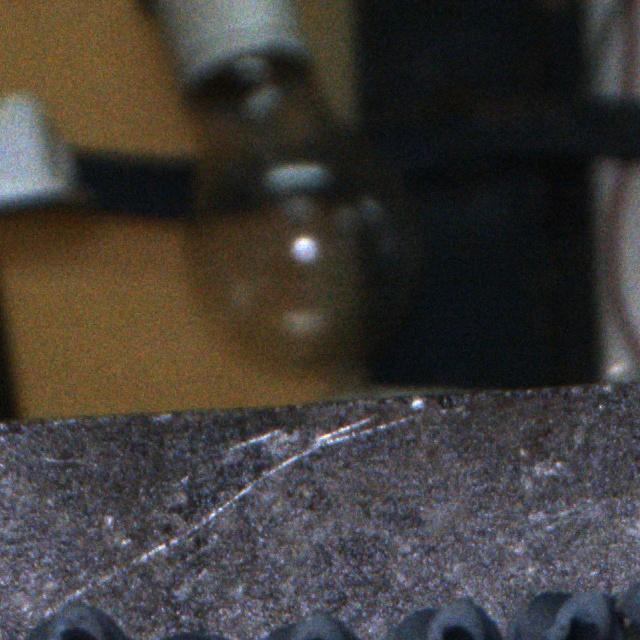tool_b: (505, 590, 623, 640), (394, 600, 507, 640), (21, 604, 132, 640), (253, 616, 363, 640)
